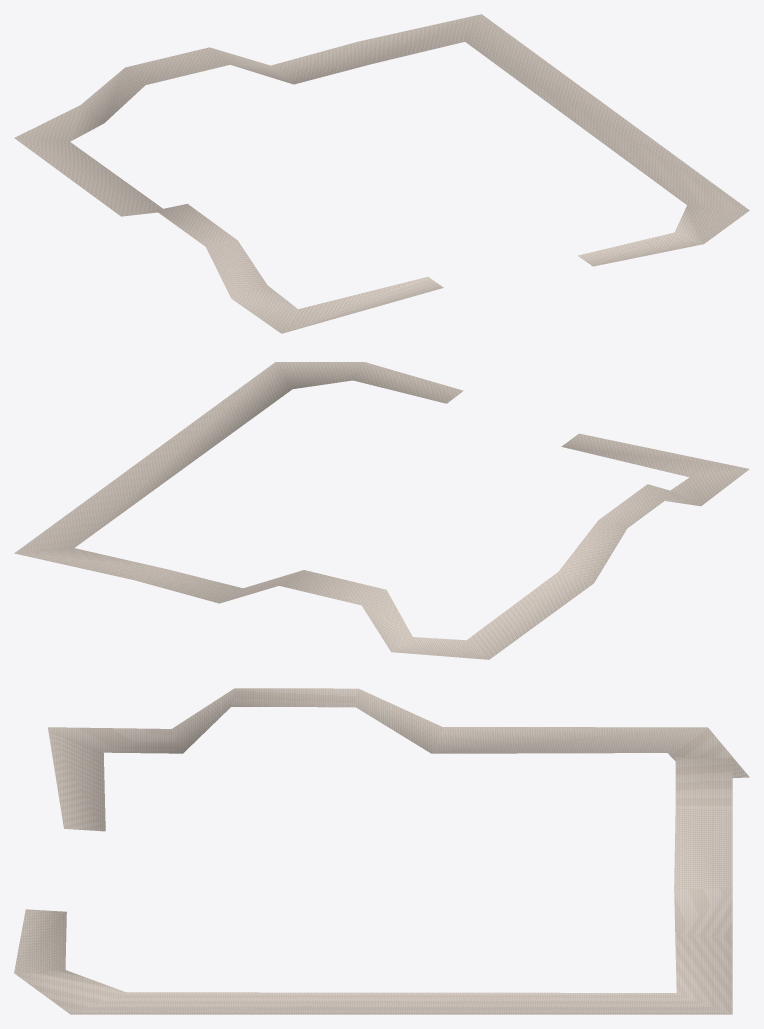
The model's file is kd_stage_135b75_4_132_bounded_portal.glb.
3 renders of one model, top to bottom at view 1: azimuth 30°, elevation 25°; view 2: azimuth 150°, elevation 25°; view 3: azimuth 270°, elevation 25°, orthographic. The views are drawn at different scales.
Visible parts, largest first — view 1: kd_stage_135b75_4_132_bounded_portal; view 2: kd_stage_135b75_4_132_bounded_portal; view 3: kd_stage_135b75_4_132_bounded_portal.
Part boxes in pixels (bbox=[...]): kd_stage_135b75_4_132_bounded_portal: bbox=[14, 14, 749, 333]; kd_stage_135b75_4_132_bounded_portal: bbox=[14, 362, 749, 659]; kd_stage_135b75_4_132_bounded_portal: bbox=[14, 688, 749, 1014].
Bounding box in the file's own units: 2.04 × 0.1436 × 2.21.
1 material, 1 textured.
